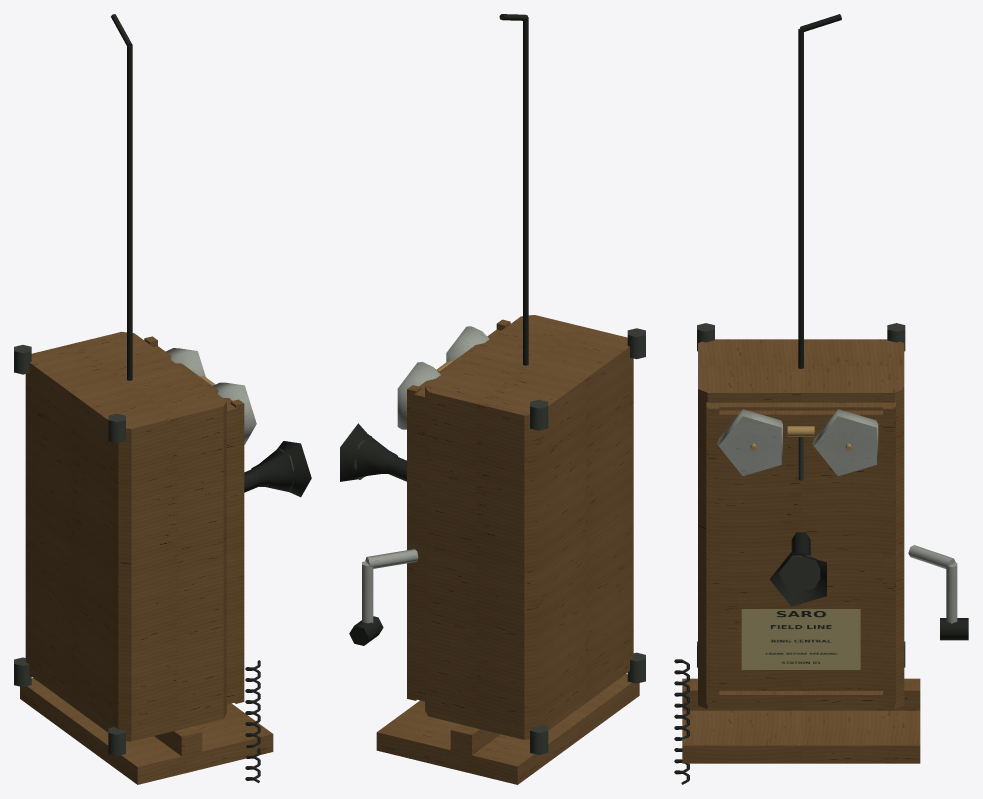
File: SM_FieldKit_FieldPhone_LOD2.fbx
3 views of the same model, side by side, from view 1: azimuth 30°, elevation 25°; view 2: azimuth 150°, elevation 25°; view 3: azimuth 270°, elevation 25° (orthographic). The views are drawn at different scales.
Parts seen in each view (by area): view 1: SM_FieldKit_FieldPhone_LOD2; view 2: SM_FieldKit_FieldPhone_LOD2; view 3: SM_FieldKit_FieldPhone_LOD2.
Boxes of the visible parts, x1=… form: SM_FieldKit_FieldPhone_LOD2: x1=14, y1=14, x2=311, y2=784; SM_FieldKit_FieldPhone_LOD2: x1=340, y1=14, x2=645, y2=784; SM_FieldKit_FieldPhone_LOD2: x1=674, y1=14, x2=968, y2=784.
Bounding box in the file's own units: 0.346 × 0.3708 × 1.03.
